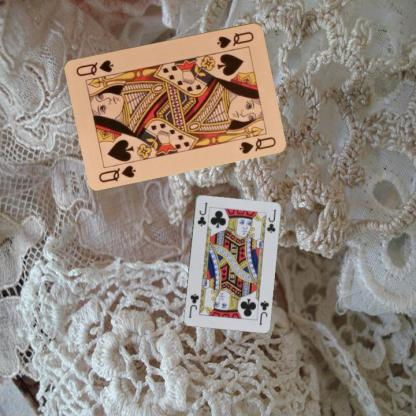Jc: (194, 200, 209, 227), (256, 298, 270, 326)
Qs: (214, 28, 256, 50), (96, 162, 137, 184)
